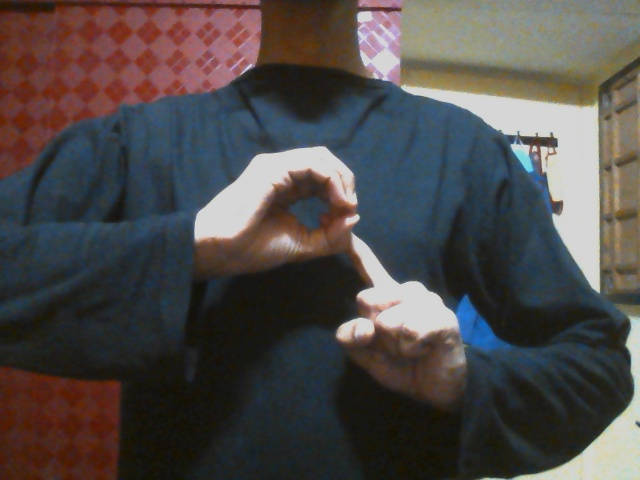Q: (206, 146, 461, 401)
